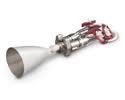thruster: (5, 45, 52, 79)
